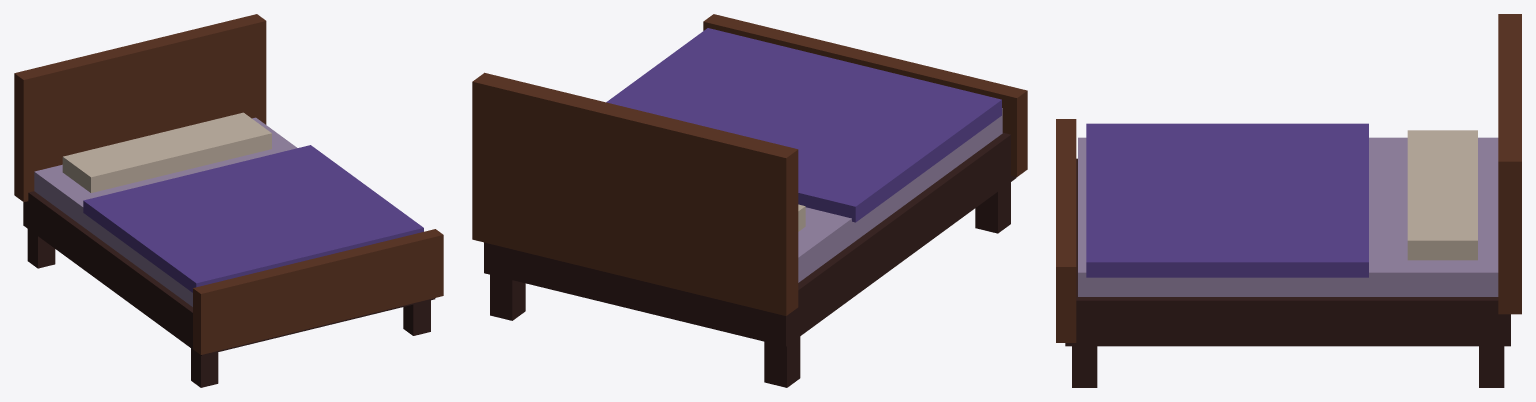
File: bed.obj
The picture shows the model from 3 angles, left to right: view 1: azimuth 30°, elevation 25°; view 2: azimuth 150°, elevation 25°; view 3: azimuth 270°, elevation 25°; orthographic projection. The views are drawn at different scales.
Visible parts, largest first — view 1: bed; view 2: bed; view 3: bed.
Boxes of the visible parts, x1,y1,x2,y2 form: bed: [14, 14, 443, 387]; bed: [472, 14, 1027, 387]; bed: [1056, 14, 1521, 387].
Bounding box in the file's own units: 2.08 × 1.51 × 2.77.
